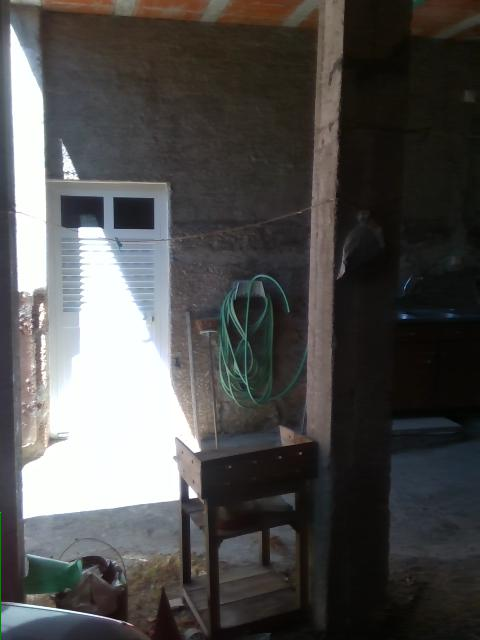door: (44, 179, 169, 437)
